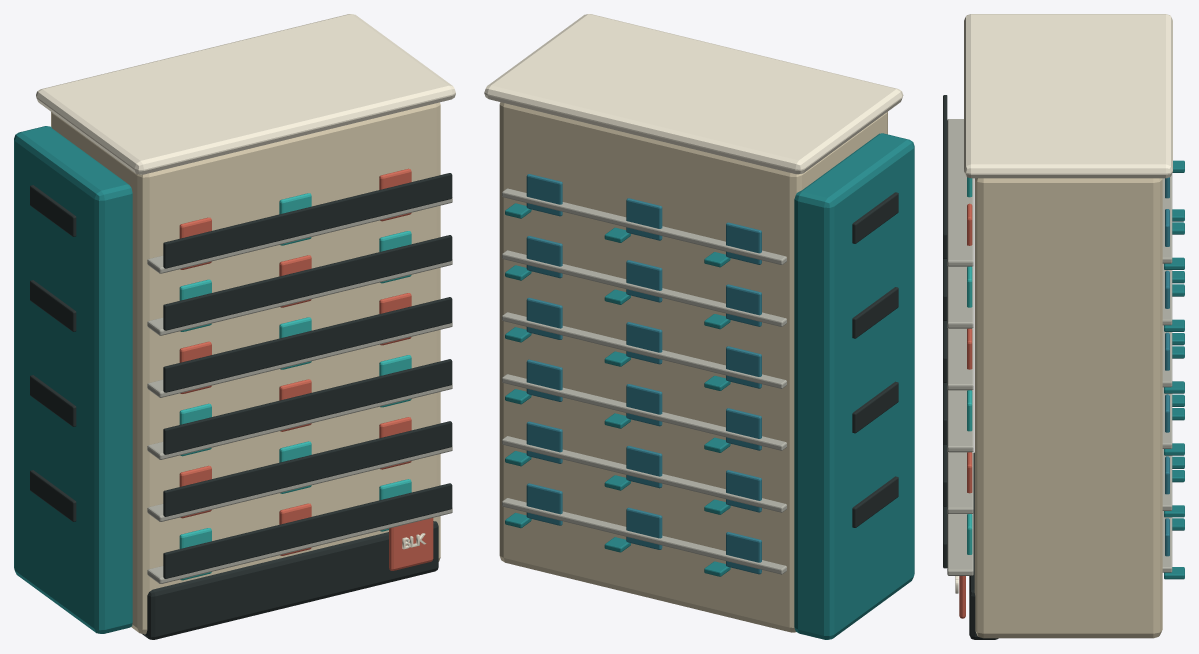
Rendered from hdb-bg-v2.glb.
3 renders of one model, left to right at view 1: azimuth 30°, elevation 25°; view 2: azimuth 150°, elevation 25°; view 3: azimuth 270°, elevation 25°, orthographic.
Visible parts, largest first — view 1: BACKGROUND HDB FAMILY · Chalk; view 2: BACKGROUND HDB FAMILY · Chalk; view 3: BACKGROUND HDB FAMILY · Chalk.
Part boxes in pixels (x1,y1,x2,y2): BACKGROUND HDB FAMILY · Chalk: (14, 14, 455, 639); BACKGROUND HDB FAMILY · Chalk: (484, 14, 914, 639); BACKGROUND HDB FAMILY · Chalk: (943, 14, 1184, 639).
Bounding box in the file's own units: 5.78 × 7.64 × 3.47.
1 material, 1 textured.
